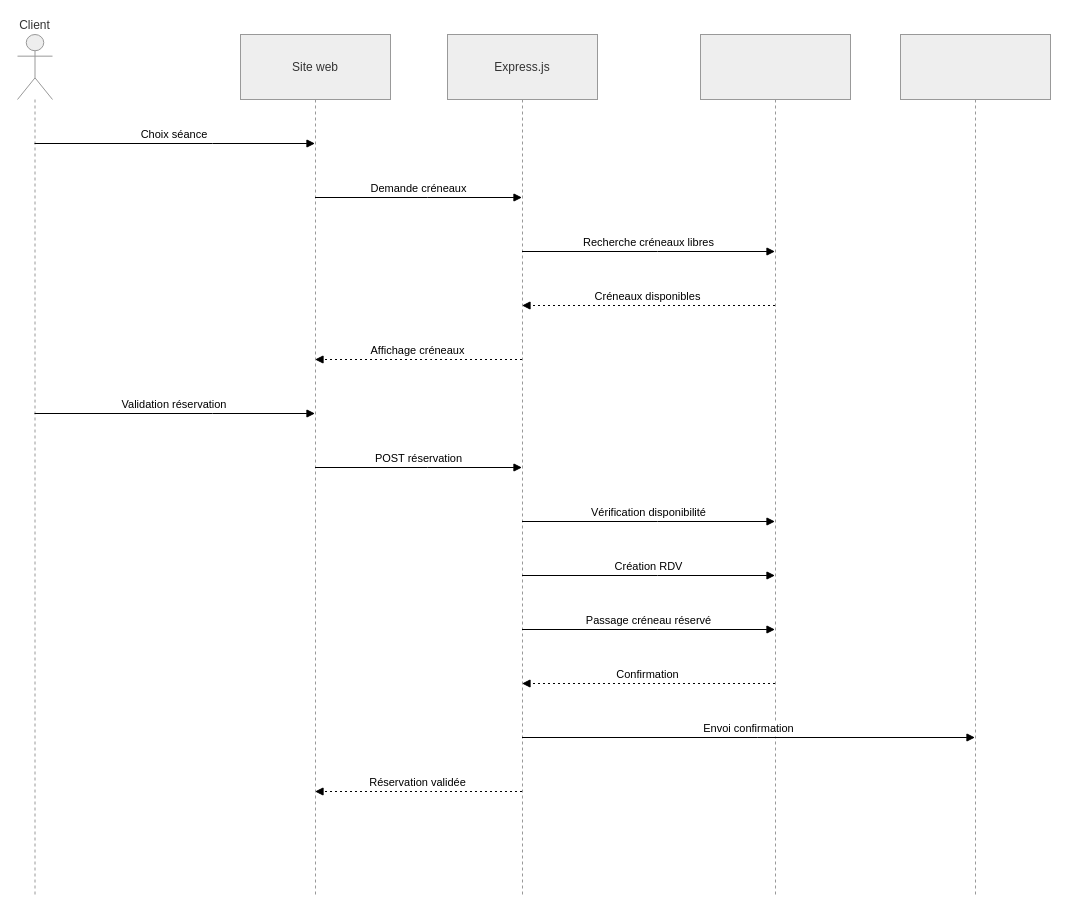
Some shapes in this 1068 by 914 pixel diagram are drawn without their labels. Here are the shapes that lost their labels. From the top down, the box of each, then its label:
(700, 34, 850, 896): MySQL
(900, 34, 1050, 896): Email
